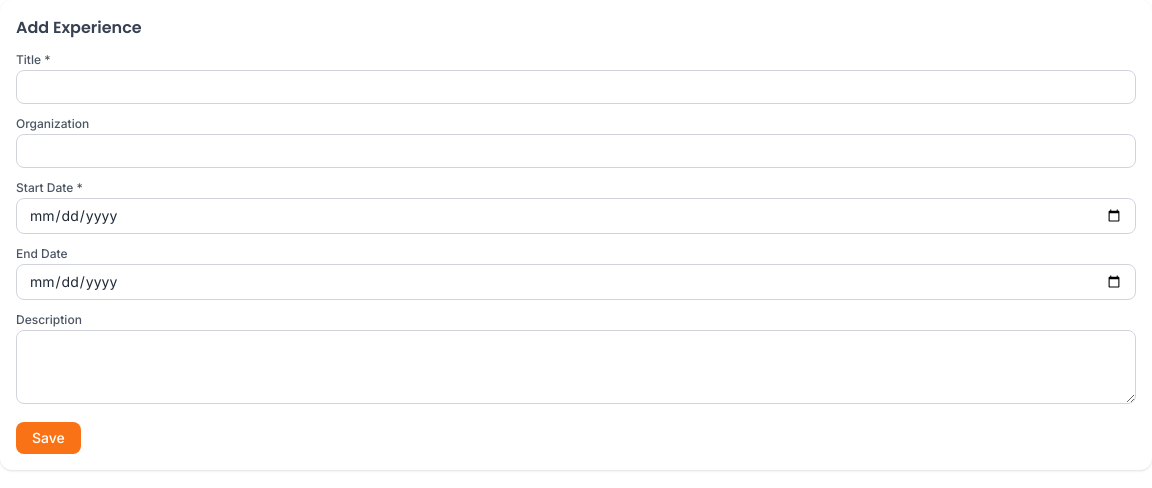
Test: ExperienceForm › shows "Saving…" text while the save request is in flight
Type "Test" into the field labelled "Title *" at [576, 87], box [16,70,1136,104]
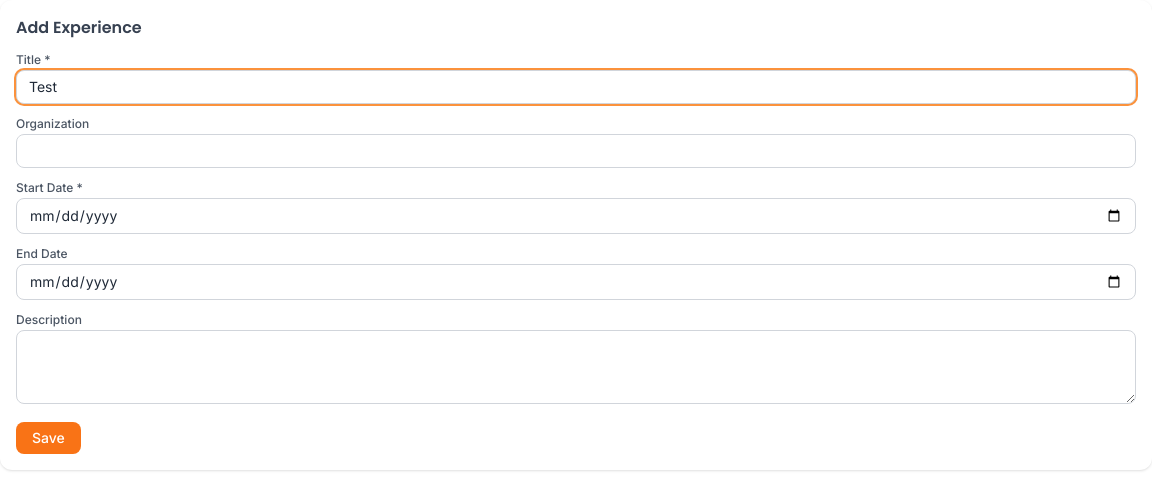
Type "2024-01-01" into the date field labelled "Start Date *" at [576, 216], box [16,198,1136,234]
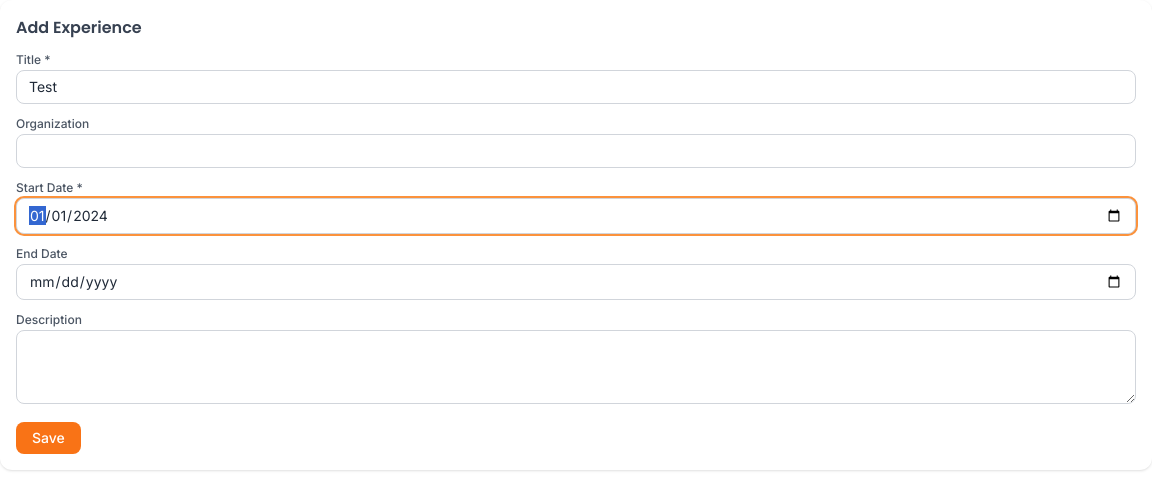
Submit the form "Save"
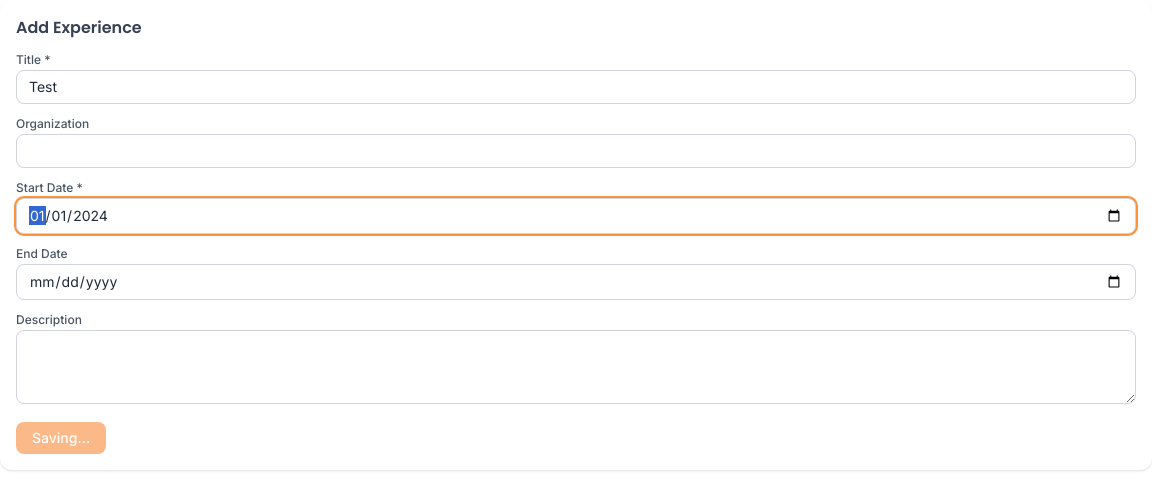
Result: the button "Saving…" is shown at [16,422,106,454]
